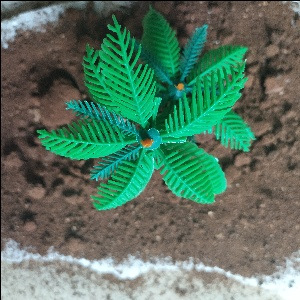plant: (42, 7, 261, 218)
